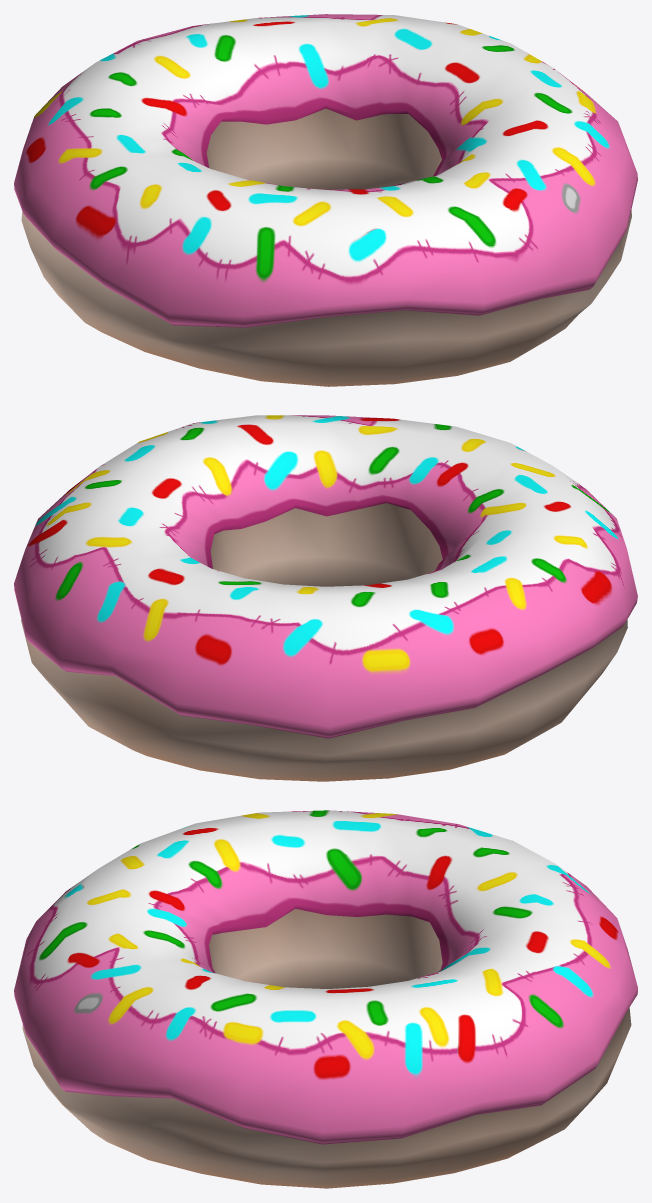
Rendered from DonutPlush.fbx.
The picture shows the model from 3 angles, top to bottom: view 1: azimuth 30°, elevation 25°; view 2: azimuth 150°, elevation 25°; view 3: azimuth 270°, elevation 25°; orthographic projection.
Parts seen in each view (by area): view 1: DonutPlush; view 2: DonutPlush; view 3: DonutPlush.
Part boxes in pixels (bbox=[...]): DonutPlush: bbox=[14, 14, 637, 386]; DonutPlush: bbox=[14, 415, 637, 781]; DonutPlush: bbox=[14, 810, 637, 1188].
Bounding box in the file's own units: 46.96 × 15.74 × 46.94.
